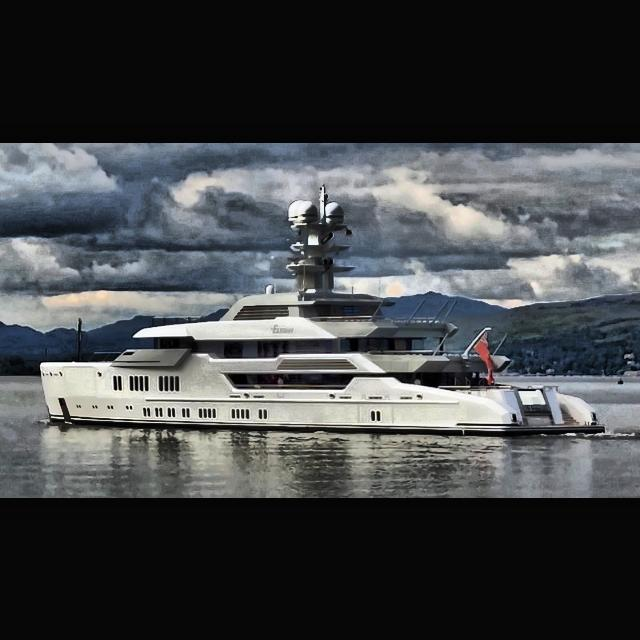yacht: (38, 180, 606, 438)
